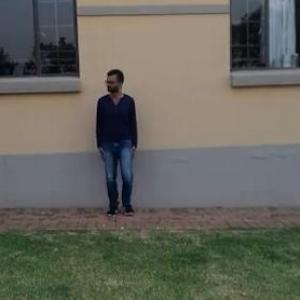follow: (95, 67, 138, 216)
